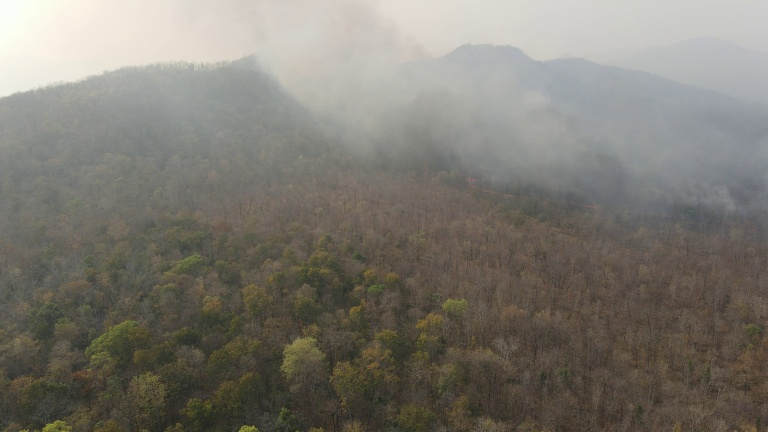fire: (464, 174, 528, 200), (583, 203, 606, 214)
smoke: (205, 1, 603, 199), (604, 97, 768, 213)
